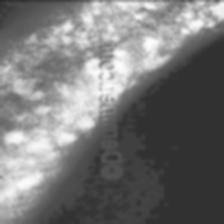Unclassified: (14, 23, 90, 140), (1, 72, 42, 202), (117, 0, 224, 22), (120, 28, 160, 66)
